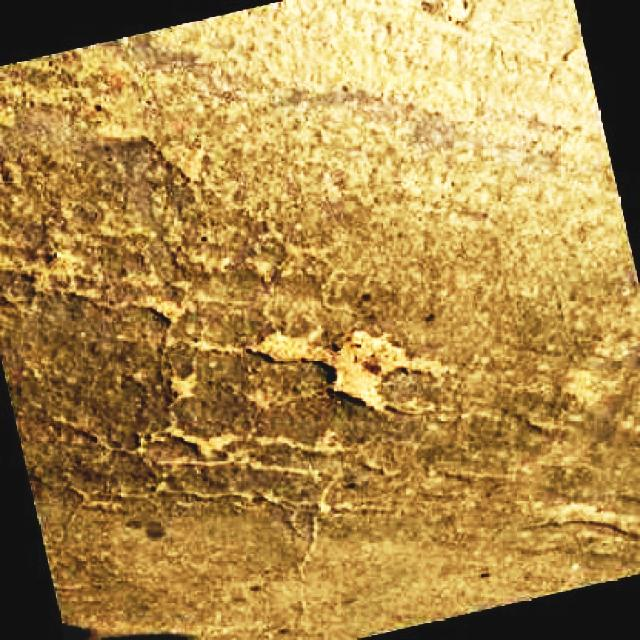pothole: (251, 314, 437, 414), (547, 489, 640, 546), (162, 422, 250, 468)
